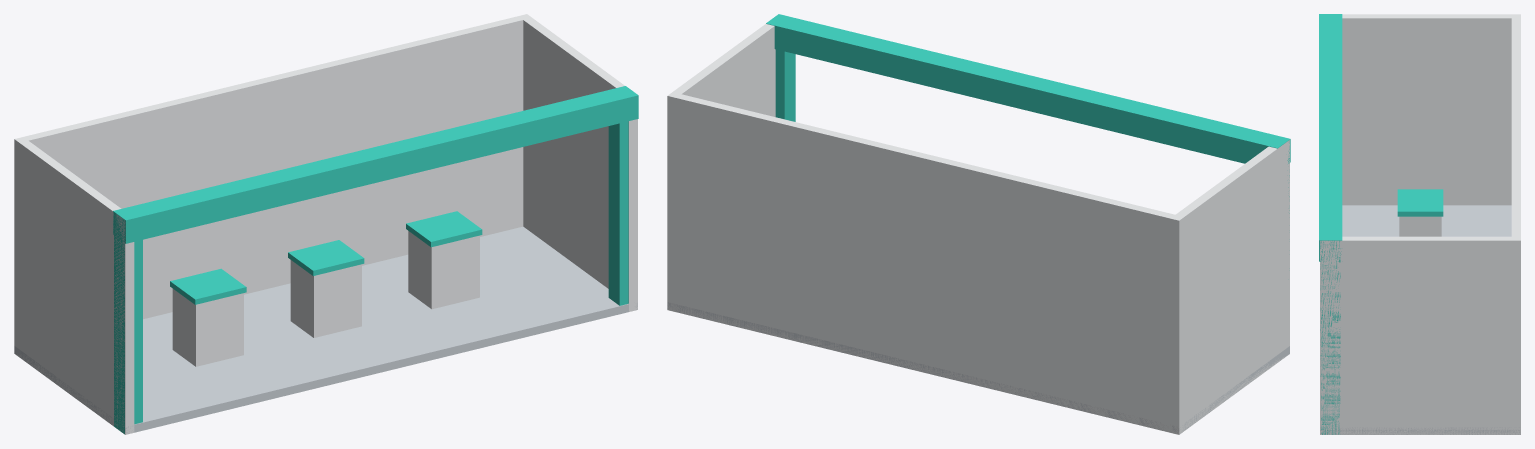
The picture shows the model from 3 angles, left to right: view 1: azimuth 30°, elevation 25°; view 2: azimuth 150°, elevation 25°; view 3: azimuth 270°, elevation 25°; orthographic projection. The views are drawn at different scales.
Visible parts, largest first — view 1: Exhibition Booth Concept; view 2: Exhibition Booth Concept; view 3: Exhibition Booth Concept.
Part boxes in pixels (bbox=[...]): Exhibition Booth Concept: bbox=[14, 14, 638, 434]; Exhibition Booth Concept: bbox=[667, 14, 1290, 434]; Exhibition Booth Concept: bbox=[1319, 14, 1520, 434].
Size of the model in its own units: 8 by 3.2 by 3.01.
